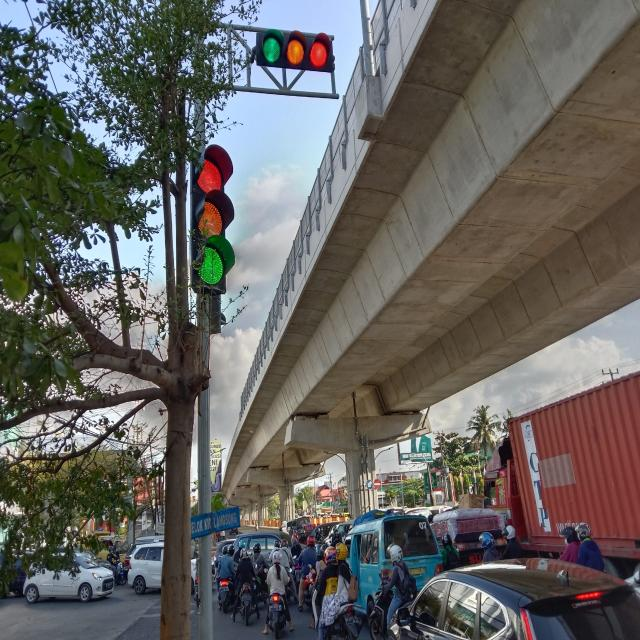Hijau: (198, 248, 223, 284), (262, 36, 281, 62)
Kuning: (197, 201, 222, 237), (286, 40, 304, 64)
Merah: (197, 159, 221, 194), (309, 41, 327, 67)
